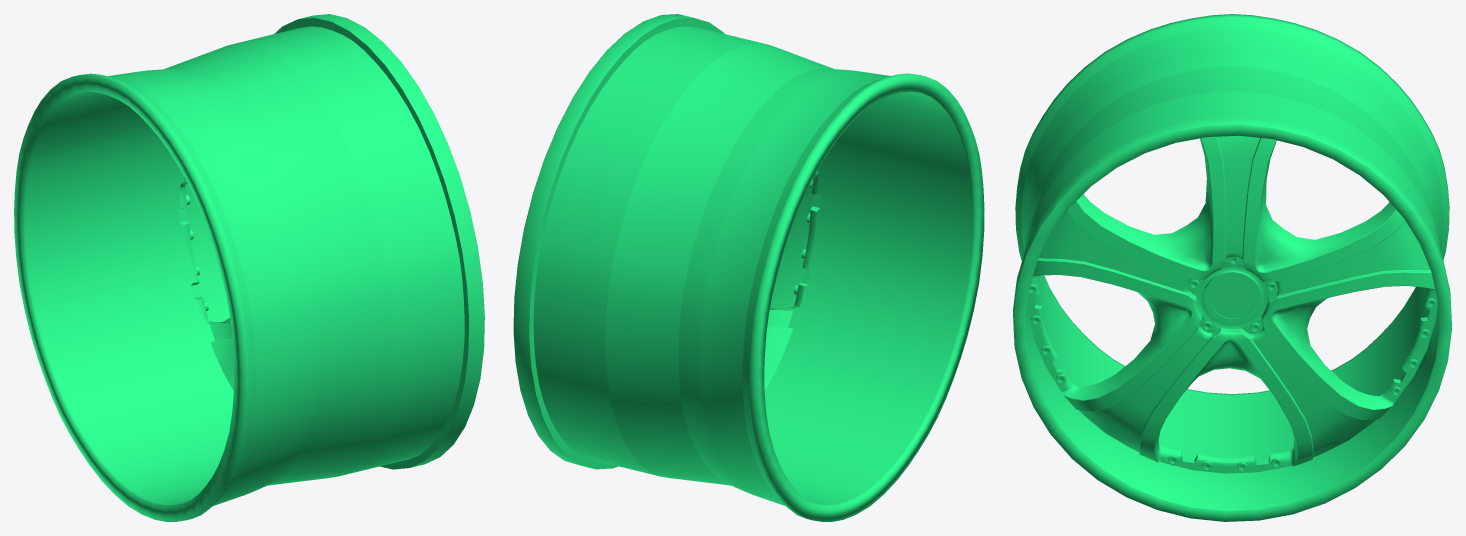
File: tis09.fbx
3 renders of one model, left to right at view 1: azimuth 30°, elevation 25°; view 2: azimuth 150°, elevation 25°; view 3: azimuth 270°, elevation 25°, orthographic. The views are drawn at different scales.
Visible parts, largest first — view 1: tis09; view 2: tis09; view 3: tis09.
Part boxes in pixels (left/top/right/bottom): tis09: left=14, top=14, right=484, bottom=521; tis09: left=513, top=14, right=984, bottom=521; tis09: left=1013, top=14, right=1451, bottom=521.
Size of the model in its own units: 1475 by 2449 by 2449.
